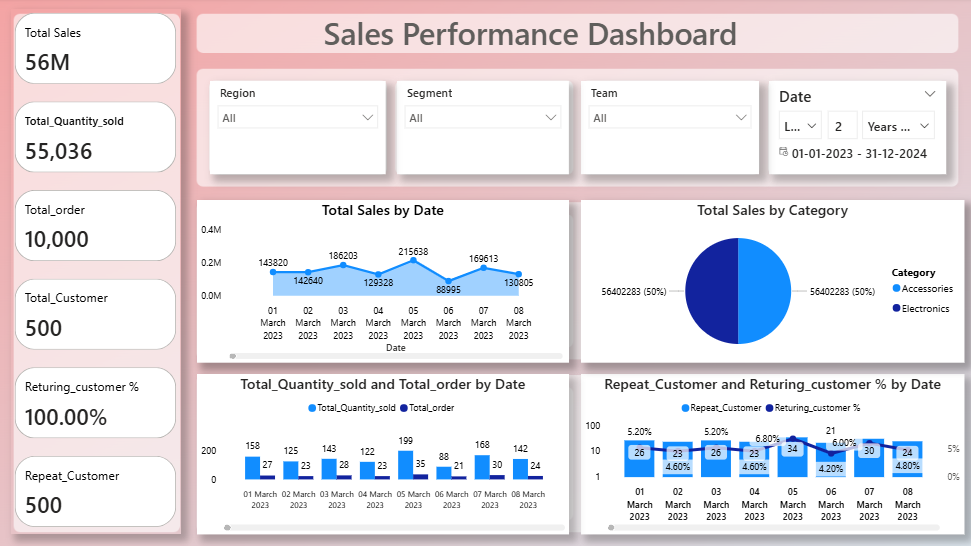

Layout of this report page (visuals, bound fields, positions):
{"tool":"powerbi","page":{"name":"Summary","canvas":[1280,720],"ordinal":0},"visuals":[{"type":"cardVisual","fields":{"Data":["_All Measures.Total Sales","_All Measures.Total_Quantity_sold","_All Measures.Total_order","_All Measures.Total_Customer","_All Measures.Returing_customer %","_All Measures.Repeat_Customer"]},"box":[18.3,15,221.7,686.7],"z":0},{"type":"areaChart","fields":{"Category":["Calender.Date"],"Y":["_All Measures.Total Sales"]},"box":[261.7,265,486.7,213.3],"z":1000},{"type":"slicer","fields":{"Values":["Calender.Date"]},"box":[1010,108.3,231.7,121.7],"z":2000},{"type":"lineStackedColumnComboChart","fields":{"Category":["Calender.Date"],"Y2":["_All Measures.Returing_customer %"],"Y":["_All Measures.Repeat_Customer"]},"box":[765,491.7,501.7,210],"z":3000},{"type":"clusteredColumnChart","fields":{"Category":["Calender.Date"],"Y":["_All Measures.Total_Quantity_sold","_All Measures.Total_order"]},"box":[261.7,491.7,486.7,210],"z":4000},{"type":"slicer","fields":{"Values":["SalesData.Team"]},"box":[765,108.3,233.3,121.7],"z":5000},{"type":"slicer","fields":{"Values":["SalesData.Segment"]},"box":[523.3,108.3,225,121.7],"z":6000},{"type":"slicer","fields":{"Values":["Customers.Region"]},"box":[278.3,108.3,230,121.7],"z":7000},{"type":"actionButton","box":[353.3,15,690,58.3],"z":8000},{"type":"pieChart","fields":{"Category":["Products.Category"],"Y":["_All Measures.Total Sales"]},"box":[765,265,501.7,213.3],"z":9000}]}

Visuals, with their boxes in screenshot pixels (x1, y1, x2, y2), scaled from the page's 1280x720 canvas onto the 971x546 screenshot:
cardVisual - _All Measures.Total Sales x _All Measures.Total_Quantity_sold: [left=14, top=11, right=182, bottom=532]
areaChart - Calender.Date x _All Measures.Total Sales: [left=199, top=201, right=568, bottom=363]
slicer - Calender.Date: [left=766, top=82, right=942, bottom=174]
lineStackedColumnComboChart - Calender.Date x _All Measures.Returing_customer %: [left=580, top=373, right=961, bottom=532]
clusteredColumnChart - Calender.Date x _All Measures.Total_Quantity_sold: [left=199, top=373, right=568, bottom=532]
slicer - SalesData.Team: [left=580, top=82, right=757, bottom=174]
slicer - SalesData.Segment: [left=397, top=82, right=568, bottom=174]
slicer - Customers.Region: [left=211, top=82, right=386, bottom=174]
actionButton: [left=268, top=11, right=791, bottom=56]
pieChart - Products.Category x _All Measures.Total Sales: [left=580, top=201, right=961, bottom=363]
